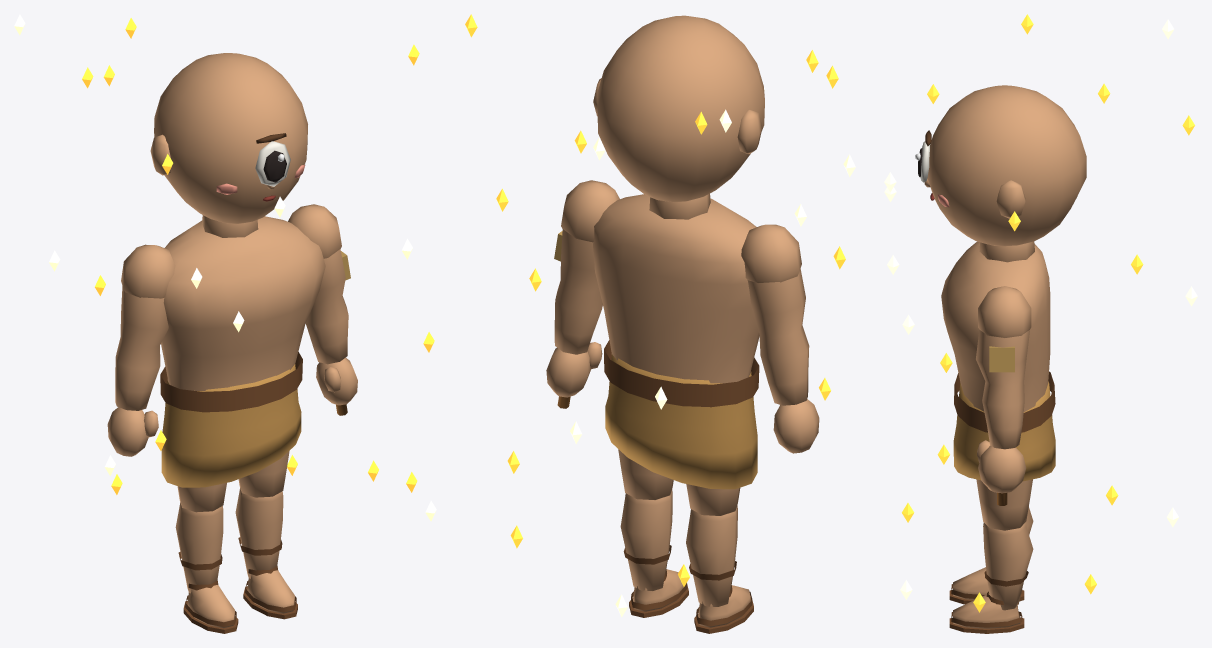
File: zyklop.glb
The picture shows the model from 3 angles, left to right: view 1: azimuth 30°, elevation 25°; view 2: azimuth 150°, elevation 25°; view 3: azimuth 270°, elevation 25°; orthographic projection. The views are drawn at different scales.
Parts seen in each view (by area): view 1: rumpf, kopf, huefte, armL, armR, knieL, knieR, beinR, auge, beinL, vfx_funken_2, vfx_funken_0 (+1 smaller); view 2: rumpf, kopf, huefte, armL, armR, knieL, knieR, beinR, beinL, vfx_funken_0, vfx_funken_1, vfx_funken_2; view 3: kopf, rumpf, armR, knieR, huefte, beinR, knieL, vfx_funken_0, vfx_funken_1, vfx_funken_2, itemR.
Part boxes in pixels (<box>): rumpf: <box>160,216,325,412</box>; kopf: <box>150,53,307,237</box>; huefte: <box>161,364,301,487</box>; armL: <box>107,244,175,456</box>; armR: <box>288,204,357,405</box>; knieL: <box>175,502,238,633</box>; knieR: <box>235,488,297,619</box>; beinR: <box>238,451,289,497</box>; auge: <box>255,141,290,186</box>; beinL: <box>177,483,226,512</box>; vfx_funken_2: <box>82,44,419,481</box>; vfx_funken_0: <box>14,14,434,475</box>; rumpf: <box>593,194,759,407</box>; kopf: <box>593,15,764,219</box>; huefte: <box>605,354,757,489</box>; armL: <box>741,224,819,453</box>; armR: <box>546,180,619,397</box>; knieL: <box>686,505,753,633</box>; knieR: <box>620,489,688,617</box>; beinR: <box>618,449,673,499</box>; beinL: <box>686,484,740,515</box>; vfx_funken_0: <box>510,109,830,548</box>; vfx_funken_1: <box>496,137,855,616</box>; vfx_funken_2: <box>465,14,845,269</box>; kopf: <box>924,85,1086,262</box>; rumpf: <box>941,241,1055,432</box>; armR: <box>976,286,1031,493</box>; knieR: <box>949,522,1033,633</box>; huefte: <box>953,381,1055,481</box>; beinR: <box>976,479,1032,530</box>; knieL: <box>949,506,1033,604</box>; vfx_funken_0: <box>887,19,1197,594</box>; vfx_funken_1: <box>884,187,1178,612</box>; vfx_funken_2: <box>884,14,1110,522</box>; itemR: <box>989,346,1014,505</box>.
Bounding box in the file's own units: 1.46 × 2.33 × 1.24.
